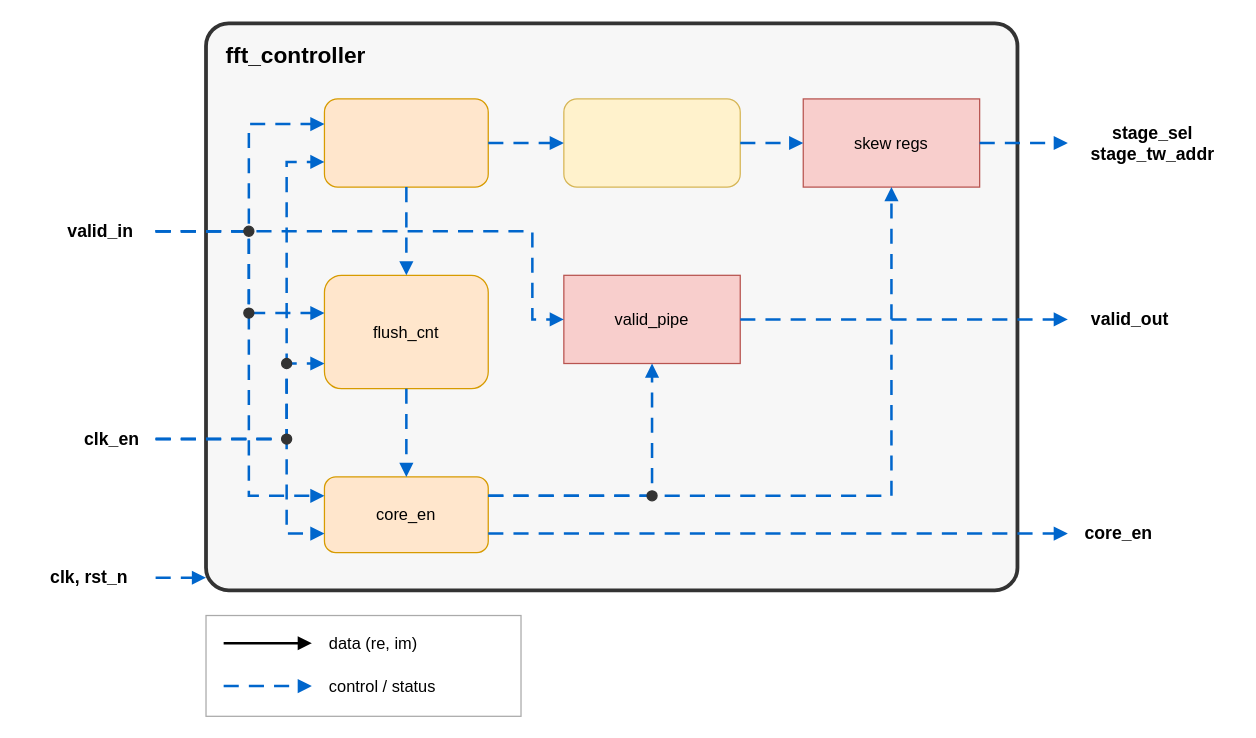
Some shapes in this 1256 by 738 pixel diagram are drawn without their labels. The box of each missing label's shape, as (x1, y1, x2, y2) in pixels:
cnt: (323, 98, 488, 187)
decode: (563, 98, 740, 187)
